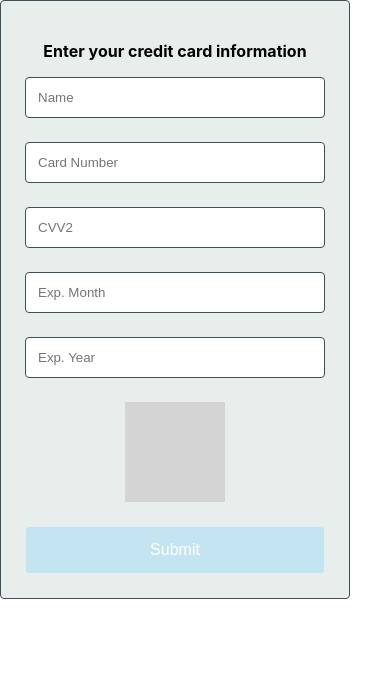
it: App › when an American Express card is used › and the details are correct, a success mesage appears
The image size is (367, 674).
Type "Demo User" into the field with placeholder "Name".
click(175, 98); type("Demo User")  # box [25,77,325,118]
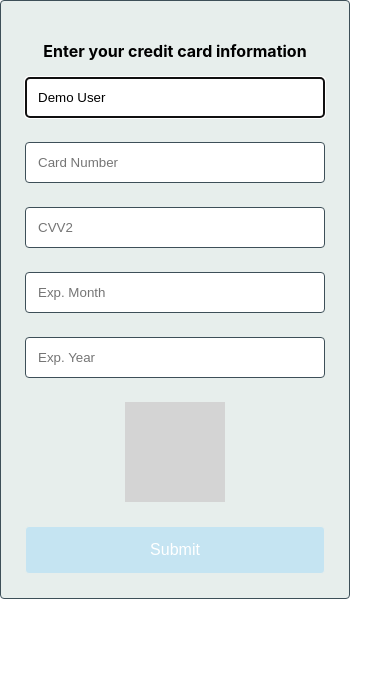
Type "12" into the field with placeholder "Exp. Month".
click(175, 292); type("12")  # box [25,272,325,313]
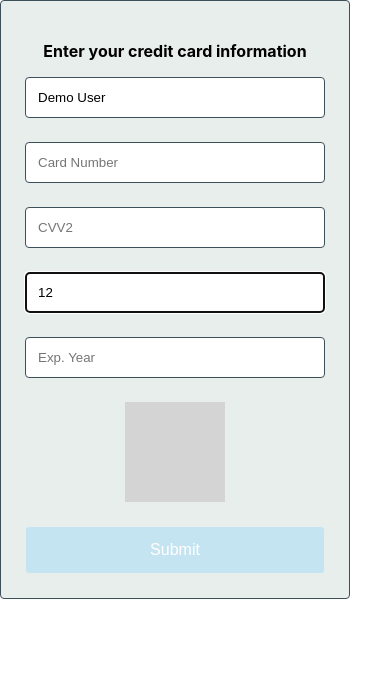
Type "2025" into the field with placeholder "Exp. Year".
click(175, 358); type("2025")  # box [25,337,325,378]
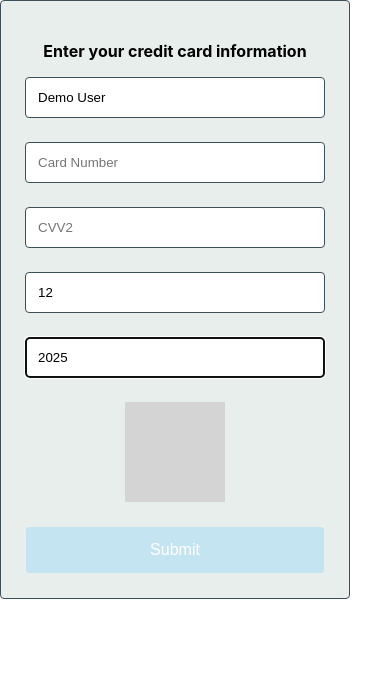
Type "371300031046123" into the field with placeholder "Card Number".
click(175, 162); type("371300031046123")  # box [25,142,325,183]
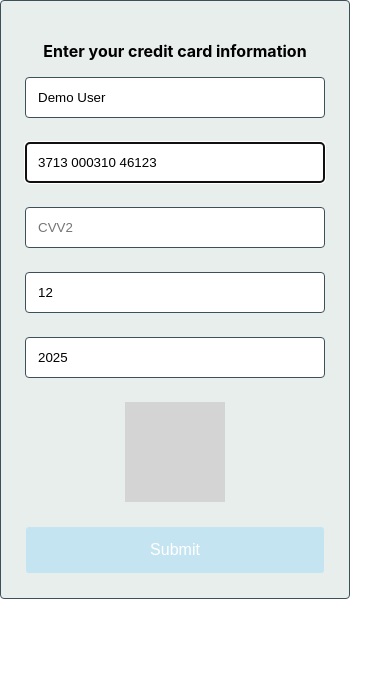
Type "1234" into the field with placeholder "CVV2".
click(175, 228); type("1234")  # box [25,207,325,248]
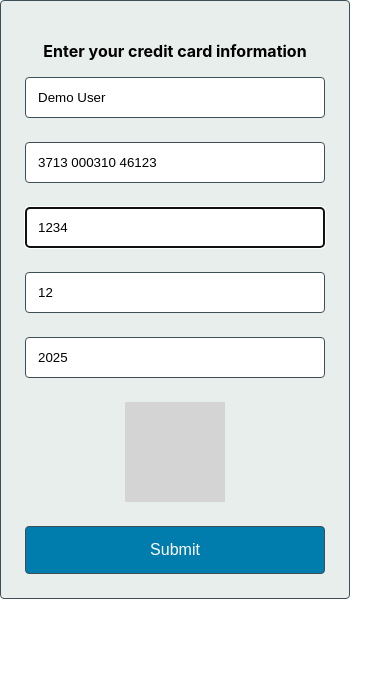
Click the button "Submit".
click(175, 550)  # box [25,526,325,574]
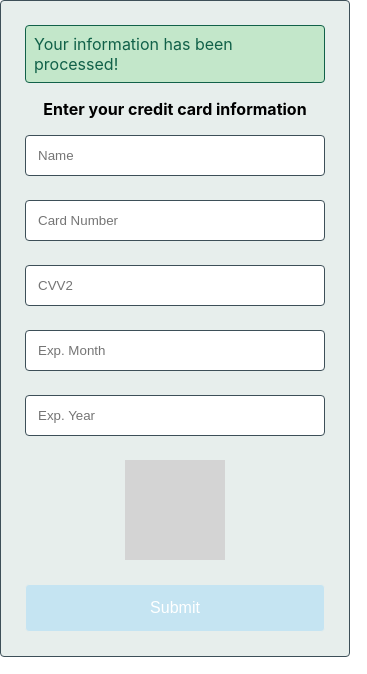
Expected: the text "Your information has been processed!" is shown, [25,25,325,83]
